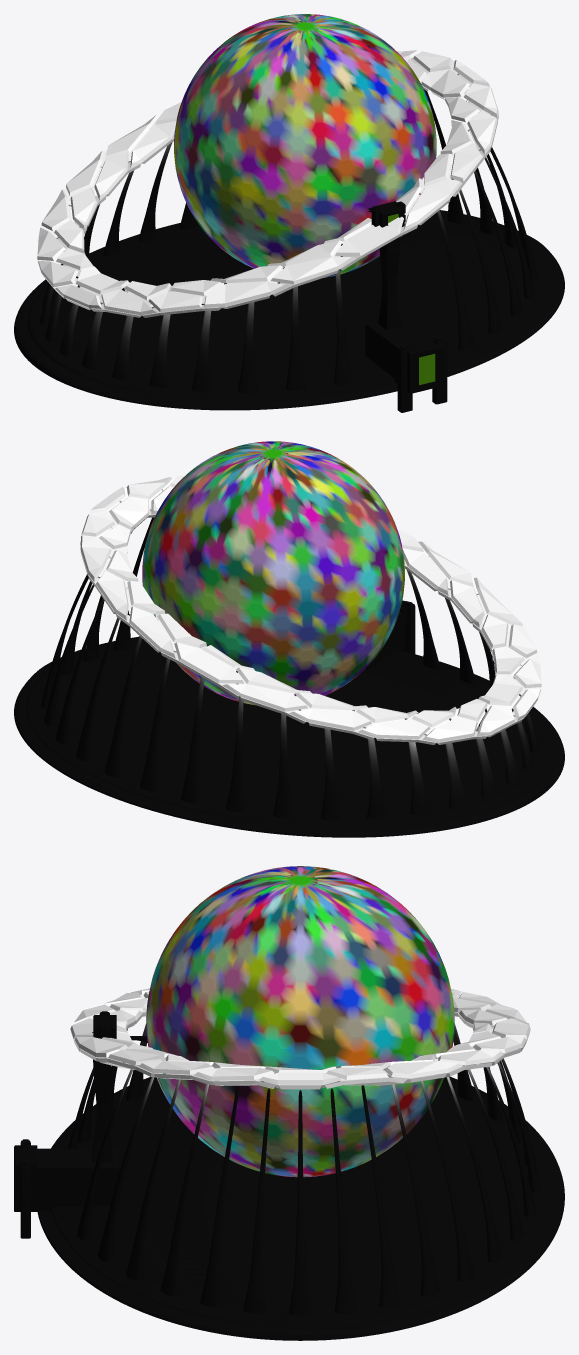
Rendered from Perisphere.fbx.
3 views of the same model, one above another, from view 1: azimuth 30°, elevation 25°; view 2: azimuth 150°, elevation 25°; view 3: azimuth 270°, elevation 25° (orthographic). The views are drawn at different scales.
Visible parts, largest first — view 1: perisphere_LOD0; view 2: perisphere_LOD0; view 3: perisphere_LOD0.
Part boxes in pixels (box(x1,y1,x2,y2)): perisphere_LOD0: box(14, 14, 564, 412); perisphere_LOD0: box(14, 441, 564, 837); perisphere_LOD0: box(14, 866, 564, 1340).
Size of what is drawn, in the model's own units: 435 by 243 by 352.
